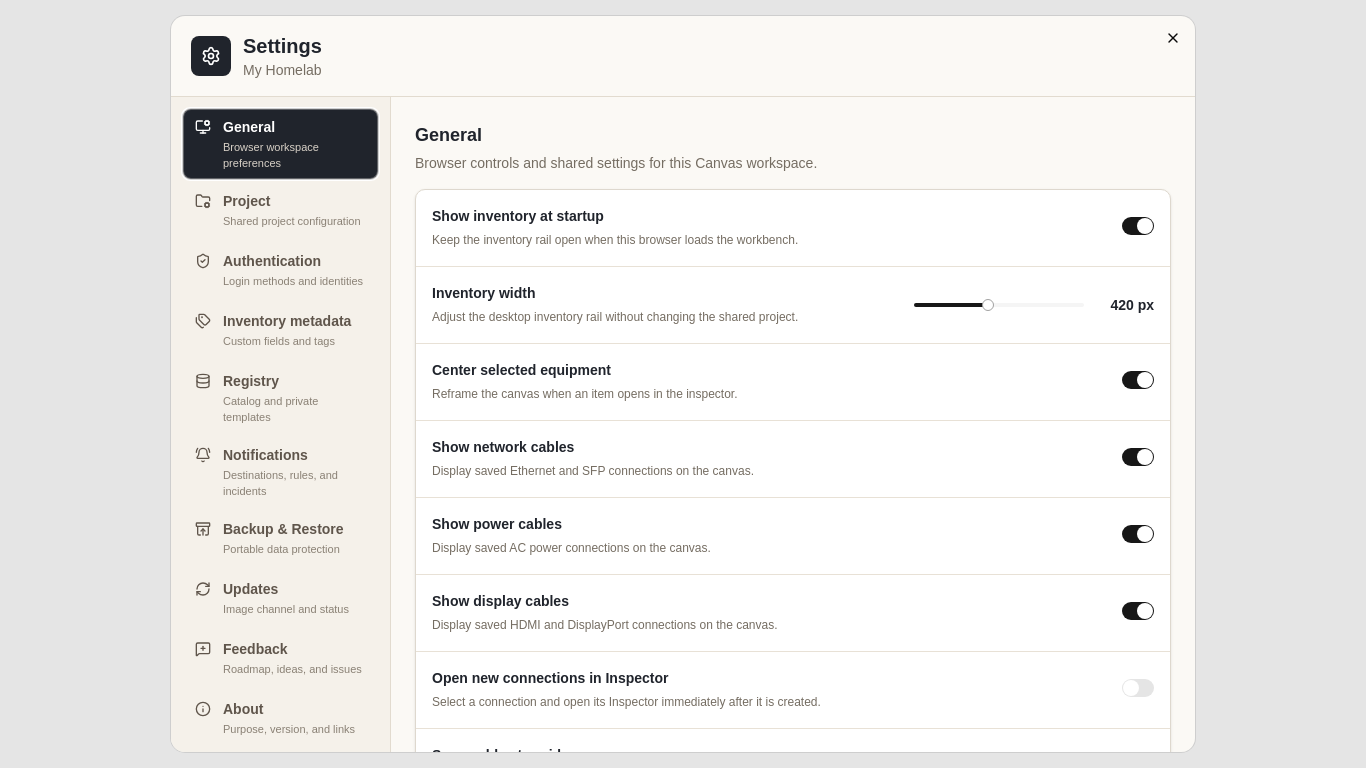
Scenario: SettingsDialog › shows enrollment failures beside the automatic contribution switch
The width and height of the screenshot is (1366, 768).
What coordinates should you click on to do the following:
click the button "Registry Catalog and private templates"
I would click on:
 (280, 398)
Its box is [183,363,378,433].
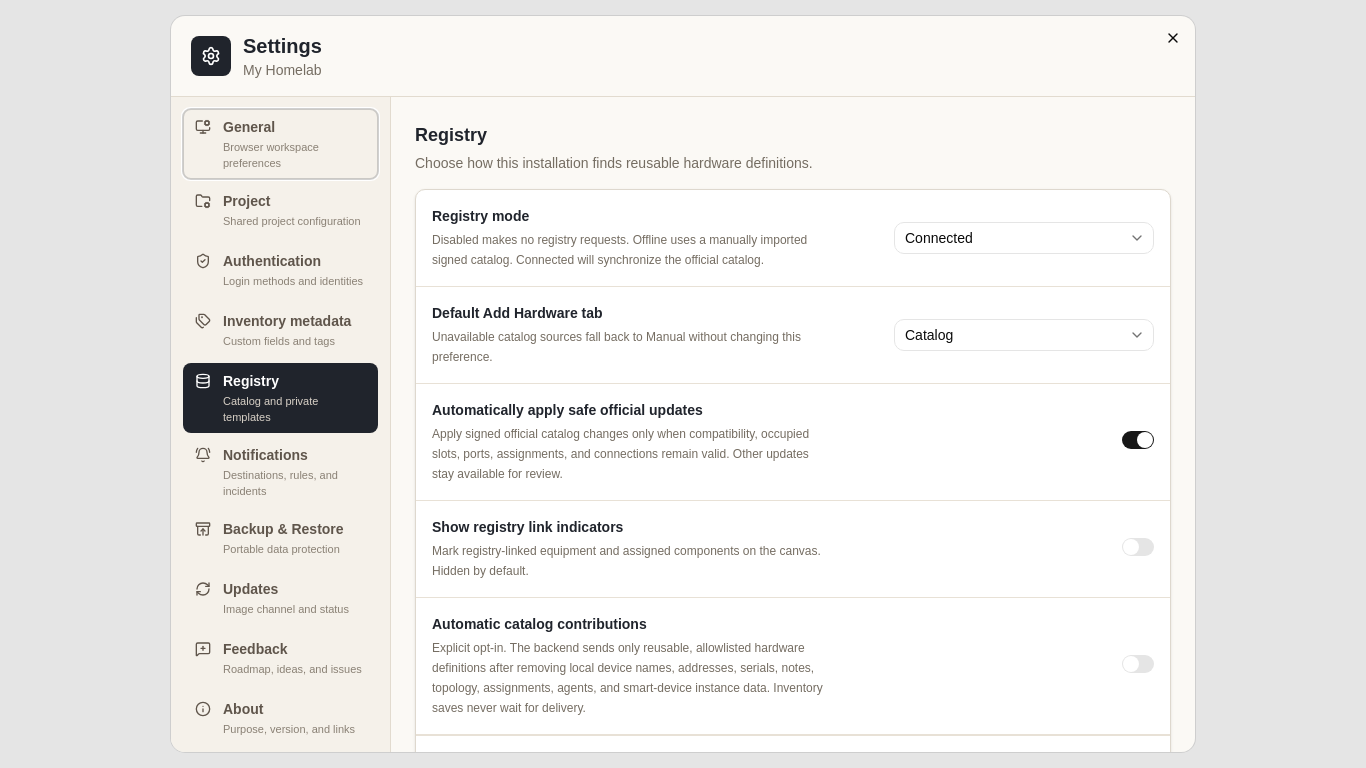
What coordinates should you click on to do the following:
click the switch named "Automatic catalog contributions"
I would click on:
 (1138, 664)
Its box is [1122,655,1154,673].
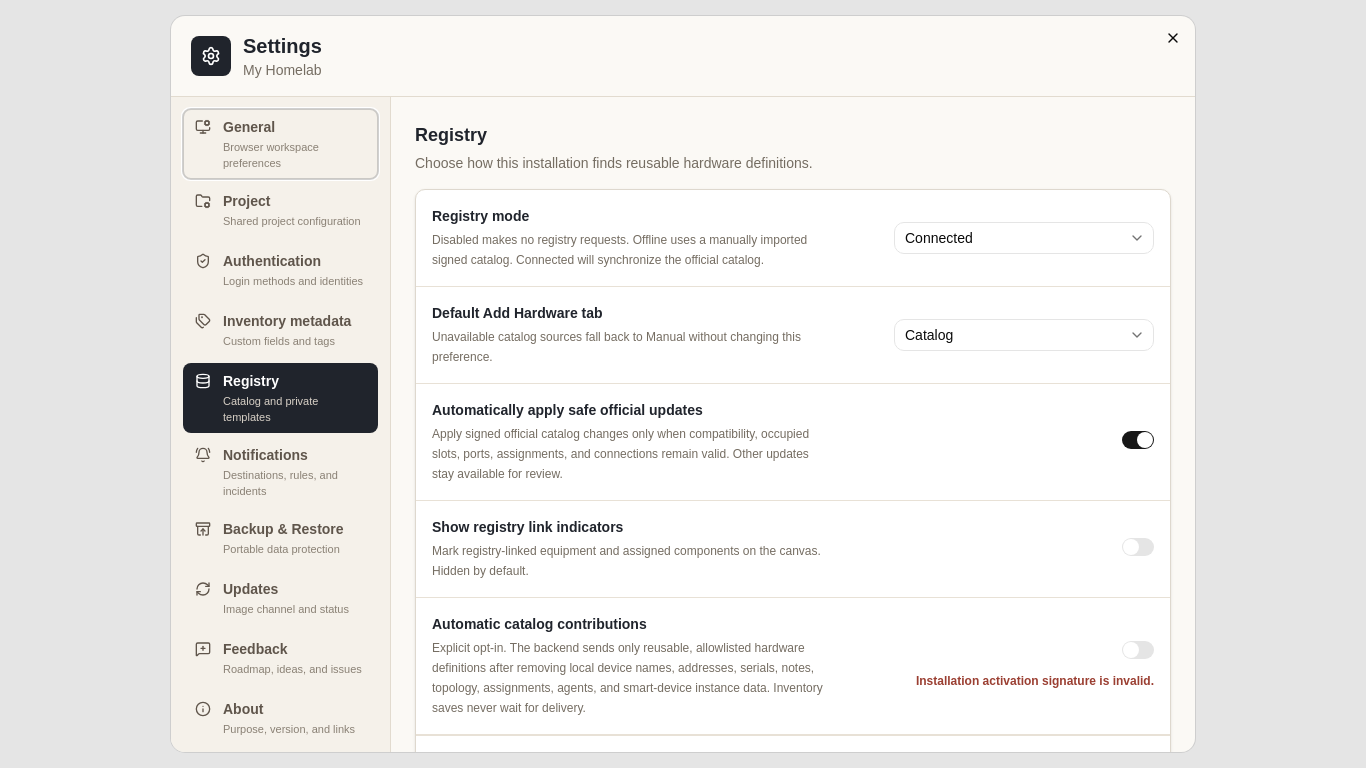
Expected: the switch named "Automatic catalog contributions" is not checked, [1122,641,1154,659]
Expected: the message reads "Installation activation signature is invalid.", [916,674,1154,688]
